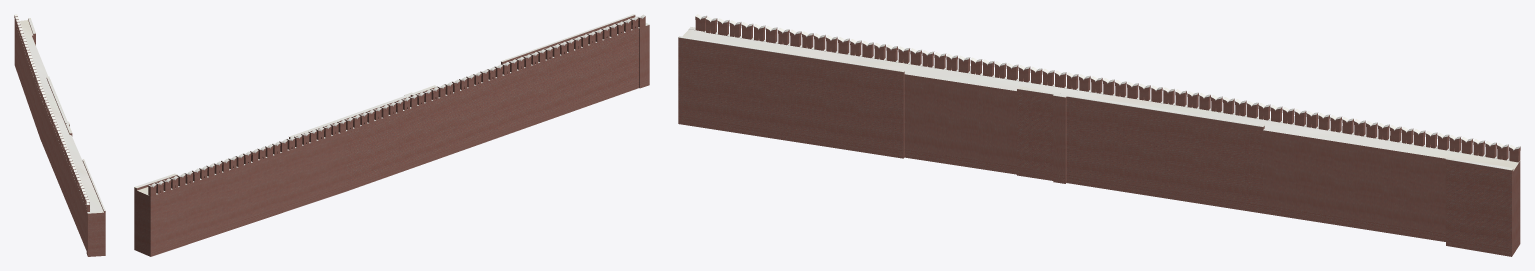
The model's file is 01080_Kremlyovskaya_stena_9.FBX.
3 renders of one model, left to right at view 1: azimuth 30°, elevation 25°; view 2: azimuth 150°, elevation 25°; view 3: azimuth 270°, elevation 25°, orthographic. The views are drawn at different scales.
Parts seen in each view (by area): view 1: Group_350, Group_352, Group_349, Group_425, Group_140, Group_139, Group_354, Group_353; view 2: Group_350, Group_425, Group_349, Group_140, Group_353; view 3: Group_350, Group_349, Group_425, Group_352, Group_354, Group_140, Group_353, Group_139.
Part boxes in pixels (x1,y1,x2,y2): Group_350: [14, 23, 86, 245]; Group_352: [19, 20, 103, 213]; Group_349: [86, 211, 105, 252]; Group_425: [14, 61, 105, 256]; Group_140: [46, 76, 72, 133]; Group_139: [82, 159, 105, 210]; Group_354: [46, 78, 72, 134]; Group_353: [82, 160, 105, 212]; Group_350: [150, 28, 639, 250]; Group_425: [134, 79, 649, 256]; Group_349: [134, 25, 649, 250]; Group_140: [289, 85, 436, 137]; Group_353: [501, 15, 635, 63]; Group_350: [678, 40, 1445, 232]; Group_349: [1017, 92, 1520, 247]; Group_425: [678, 115, 1520, 256]; Group_352: [682, 29, 1519, 170]; Group_354: [1017, 89, 1264, 129]; Group_140: [1017, 86, 1264, 126]; Group_353: [678, 37, 904, 75]; Group_139: [678, 36, 904, 72].
Size of the model in its own units: 70.41 by 21.81 by 171.
Materials: 8 (7 with a texture image).
